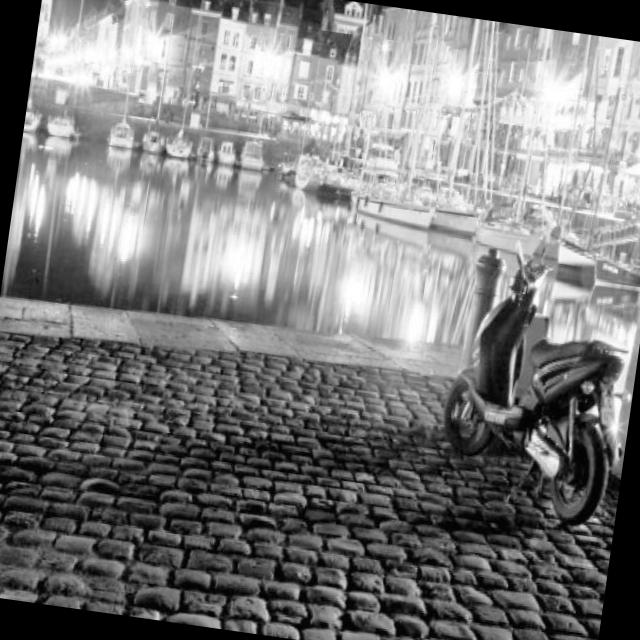Motorcycle: (401, 208, 640, 558)
